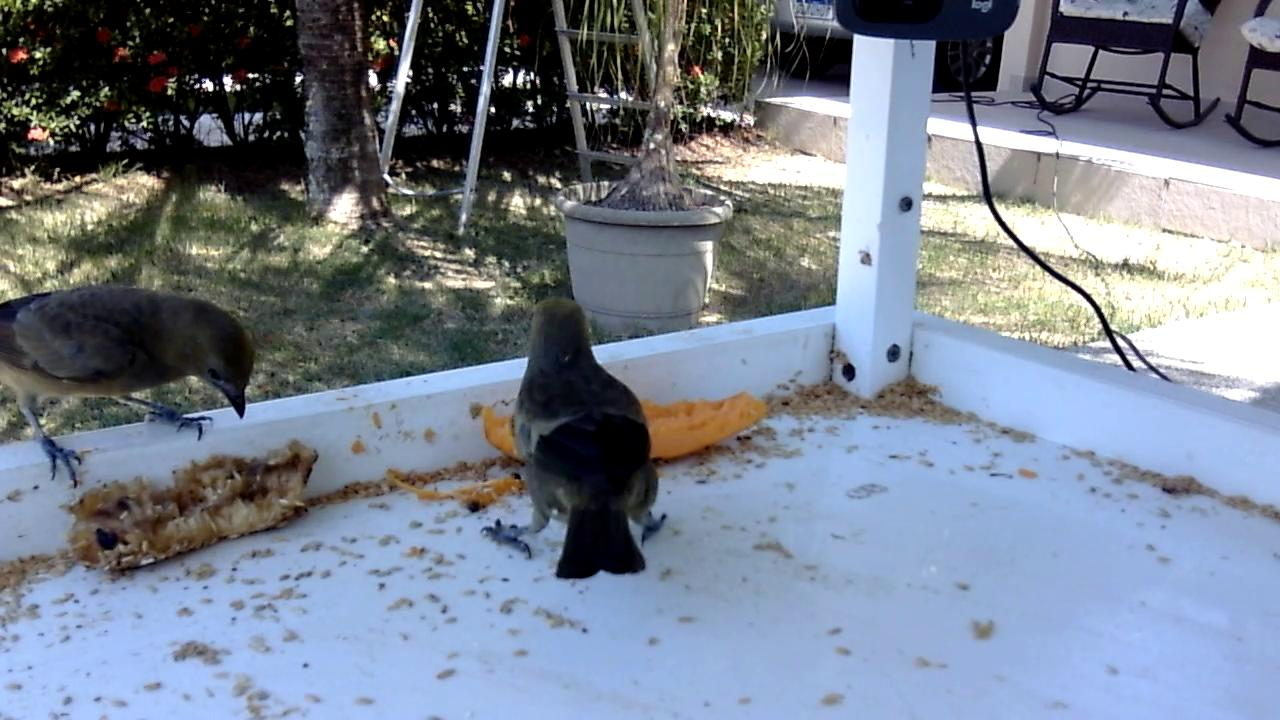sanhaco_do_coqueiro: (476, 295, 671, 585), (1, 282, 259, 494)
